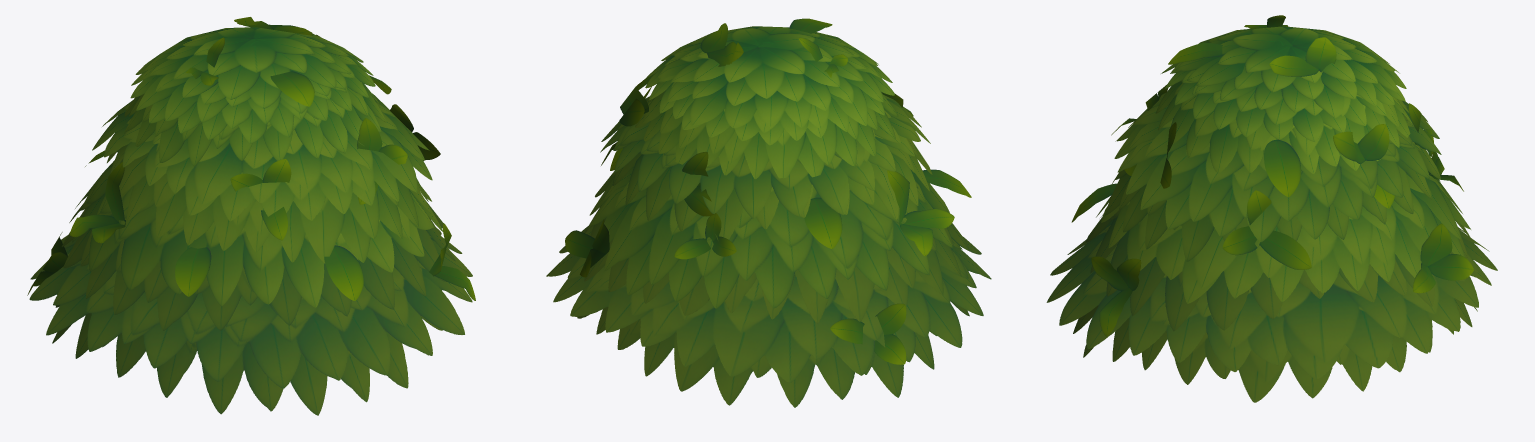
The model's file is bush.glb.
The picture shows the model from 3 angles, left to right: view 1: azimuth 30°, elevation 25°; view 2: azimuth 150°, elevation 25°; view 3: azimuth 270°, elevation 25°; orthographic projection.
Visible parts, largest first — view 1: bush; view 2: bush; view 3: bush.
Boxes of the visible parts, x1,y1,x2,y2 form: bush: (27, 17, 475, 415); bush: (546, 18, 991, 407); bush: (1046, 15, 1497, 402).
Size of the model in its own units: 1.05 by 0.7442 by 1.04.
1 material, 1 textured.
